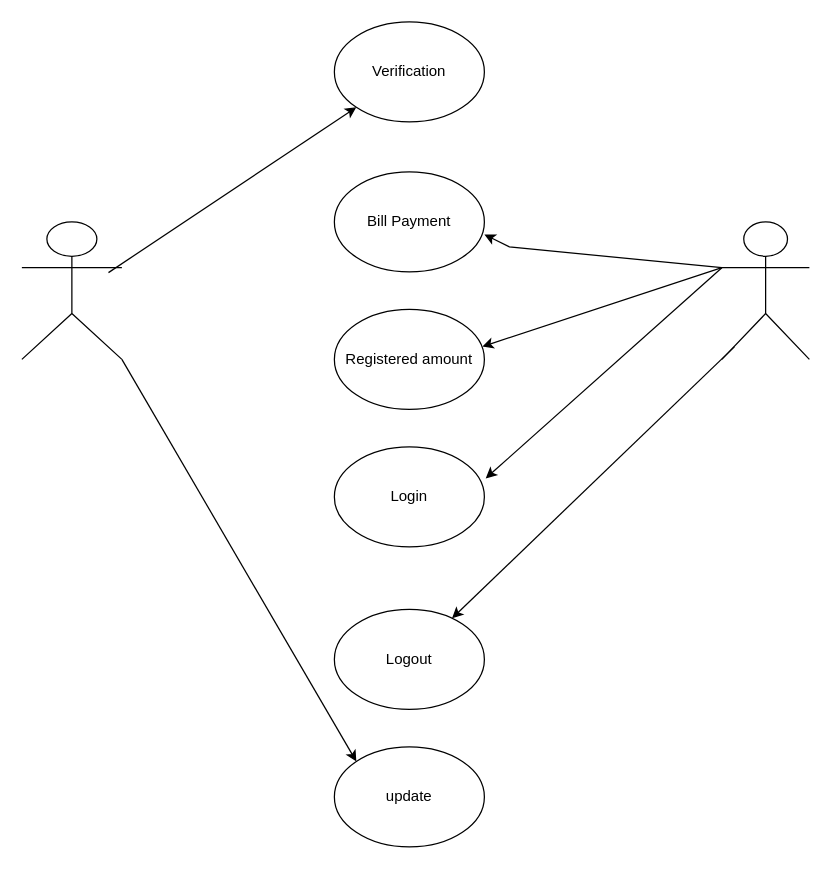
The diagram is 831 pixels wide and 869 high, and some of its shapes have lost their labels. Each missing label, with the box of its shape:
Admin: (21, 221, 122, 359)
Customer: (721, 221, 809, 359)
